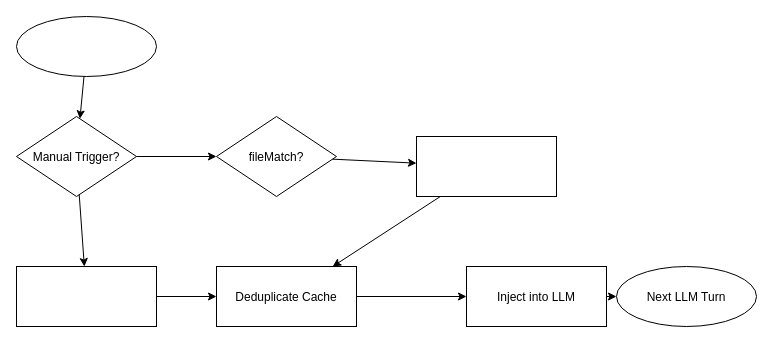
Some shapes in this 773 by 343 pixel diagram are drawn without their labels. The shapes that lost their labels are listed below. From the top down, each one's box as (x1, y1, x2, y2) in pixels, then its label:
(16, 16, 156, 76): Start Tool Execution
(416, 136, 556, 196): Load Steering Rule
(16, 266, 156, 326): Load Manual Rule
